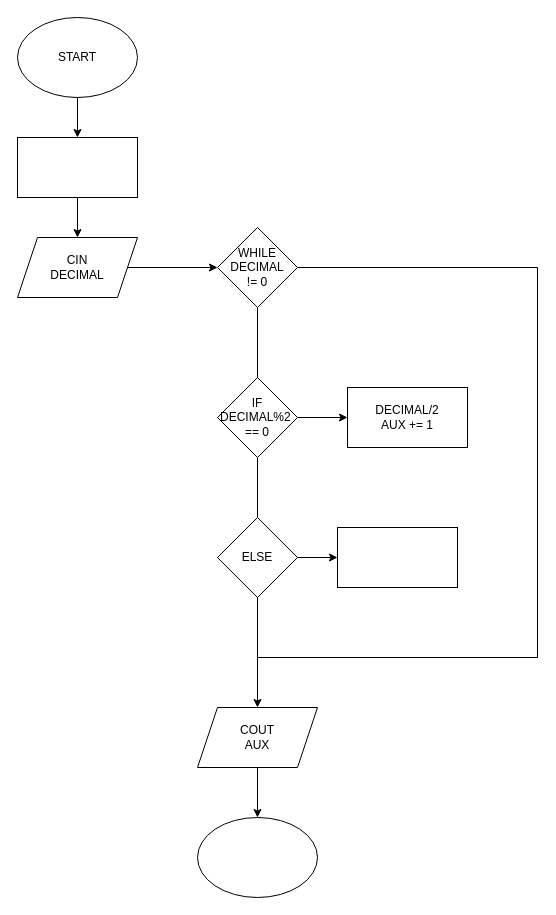
Some shapes in this 556 by 915 pixel diagram are drawn without their labels. Here are the shapes that lost their labels. From the top down, the centre of each, then its label:
the point at 77,167: INT DECIMAL INT AUX1 INT RESIDUO STRING AUX
the point at 397,557: DECIMAL - 1
the point at 257,857: END
